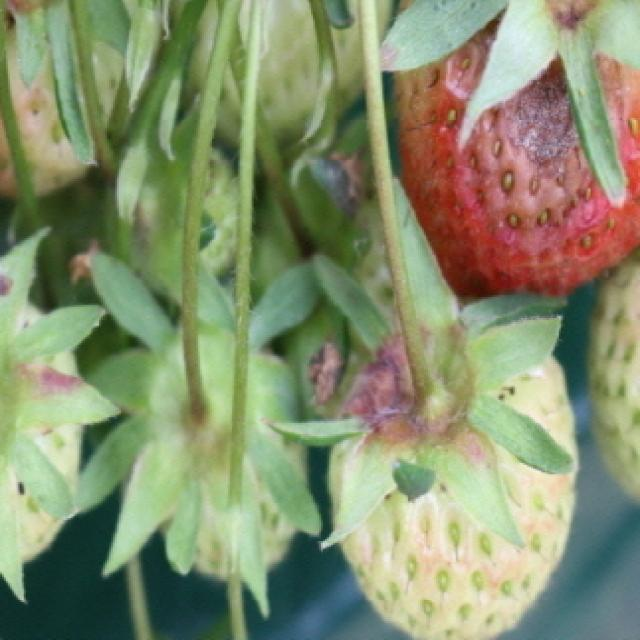Gray Mold: (438, 10, 613, 273)
